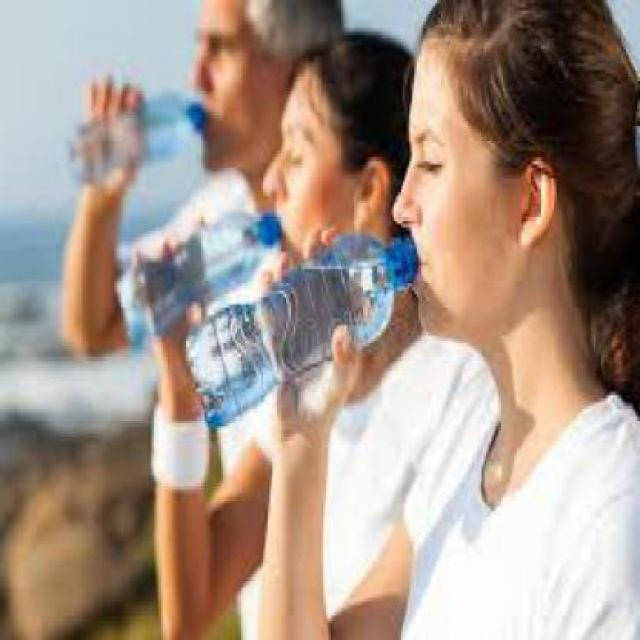Drinking: (198, 230, 420, 384), (55, 56, 231, 190)
